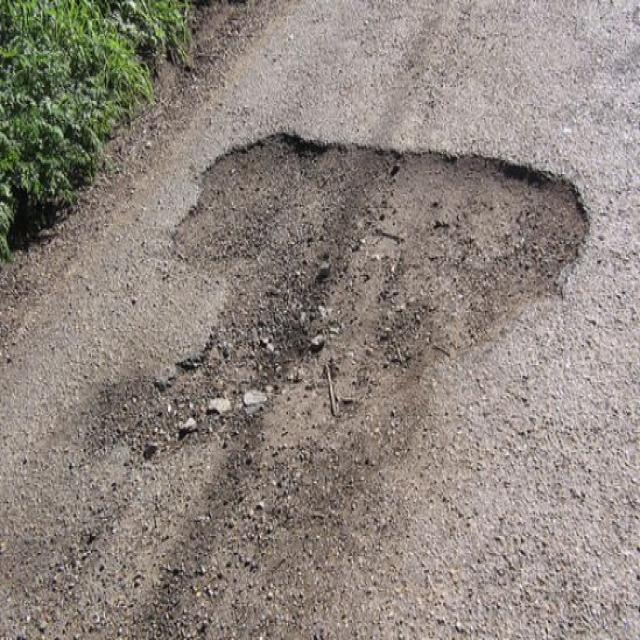Pothole: (148, 124, 592, 452)
